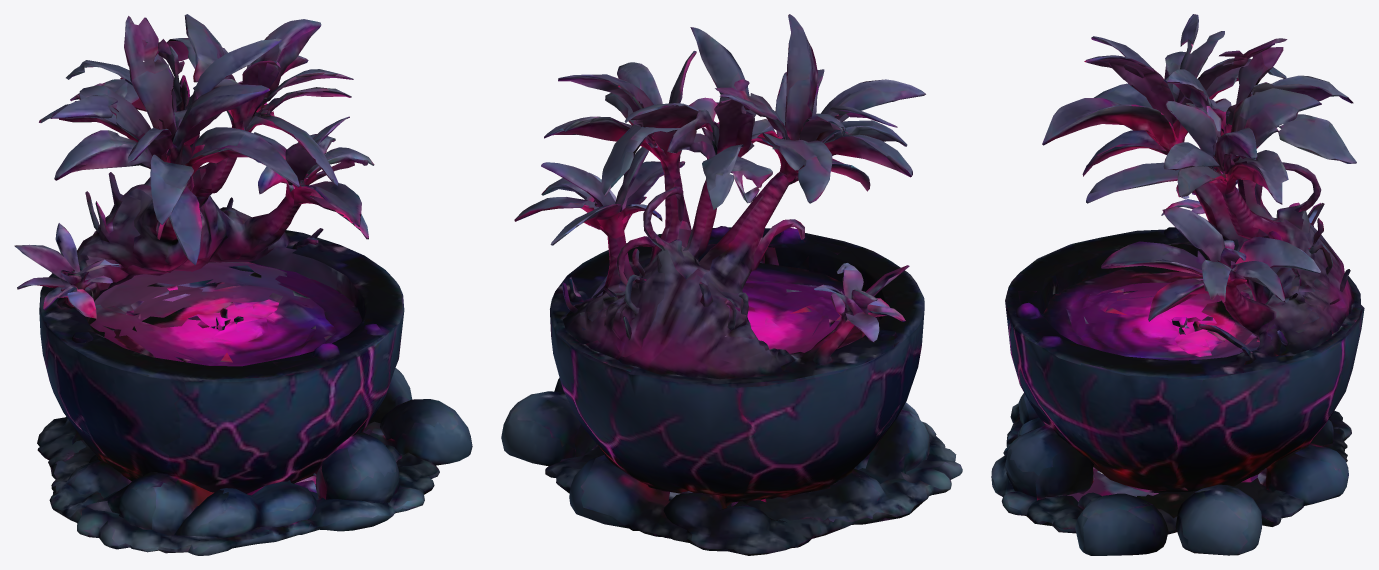
Rendered from growth-planter-generated-2026-05-17T18-55-06-889Z.low.glb.
3 views of the same model, side by side, from view 1: azimuth 30°, elevation 25°; view 2: azimuth 150°, elevation 25°; view 3: azimuth 270°, elevation 25° (orthographic). The views are drawn at different scales.
Visible parts, largest first — view 1: temp_mesh.ply; view 2: temp_mesh.ply; view 3: temp_mesh.ply.
Boxes of the visible parts, bbox=[...] form: temp_mesh.ply: bbox=[14, 14, 472, 555]; temp_mesh.ply: bbox=[501, 14, 962, 555]; temp_mesh.ply: bbox=[991, 14, 1364, 555].
Bounding box in the file's own units: 1.85 × 1.96 × 1.63.
Materials: 1 (1 with a texture image).
